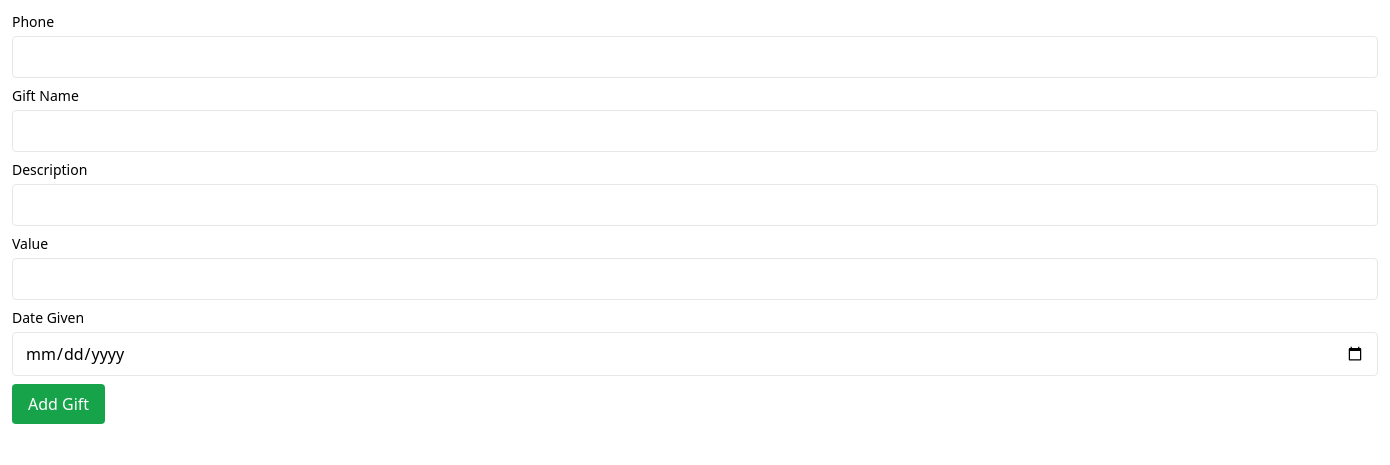
it: Gift donor phone suggestions › shows empty results and excludes name-only matches
Type "987" into the field with id "gift-phone" at [695, 57], box [12,36,1378,78]
Wait 300 ms
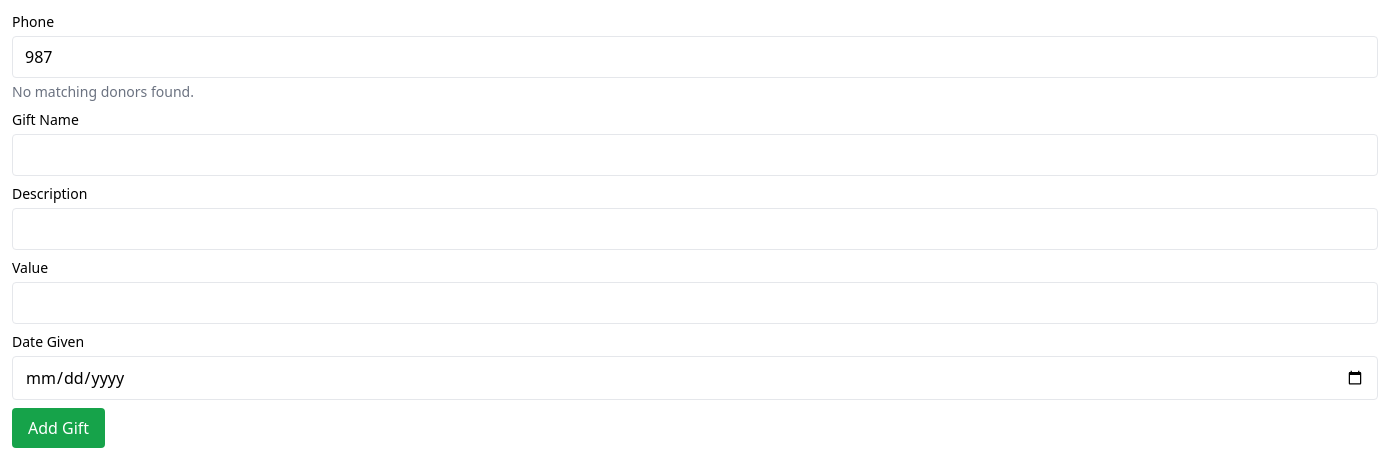
Expected: the text "No matching donors found." is shown, [12,82,194,101]
